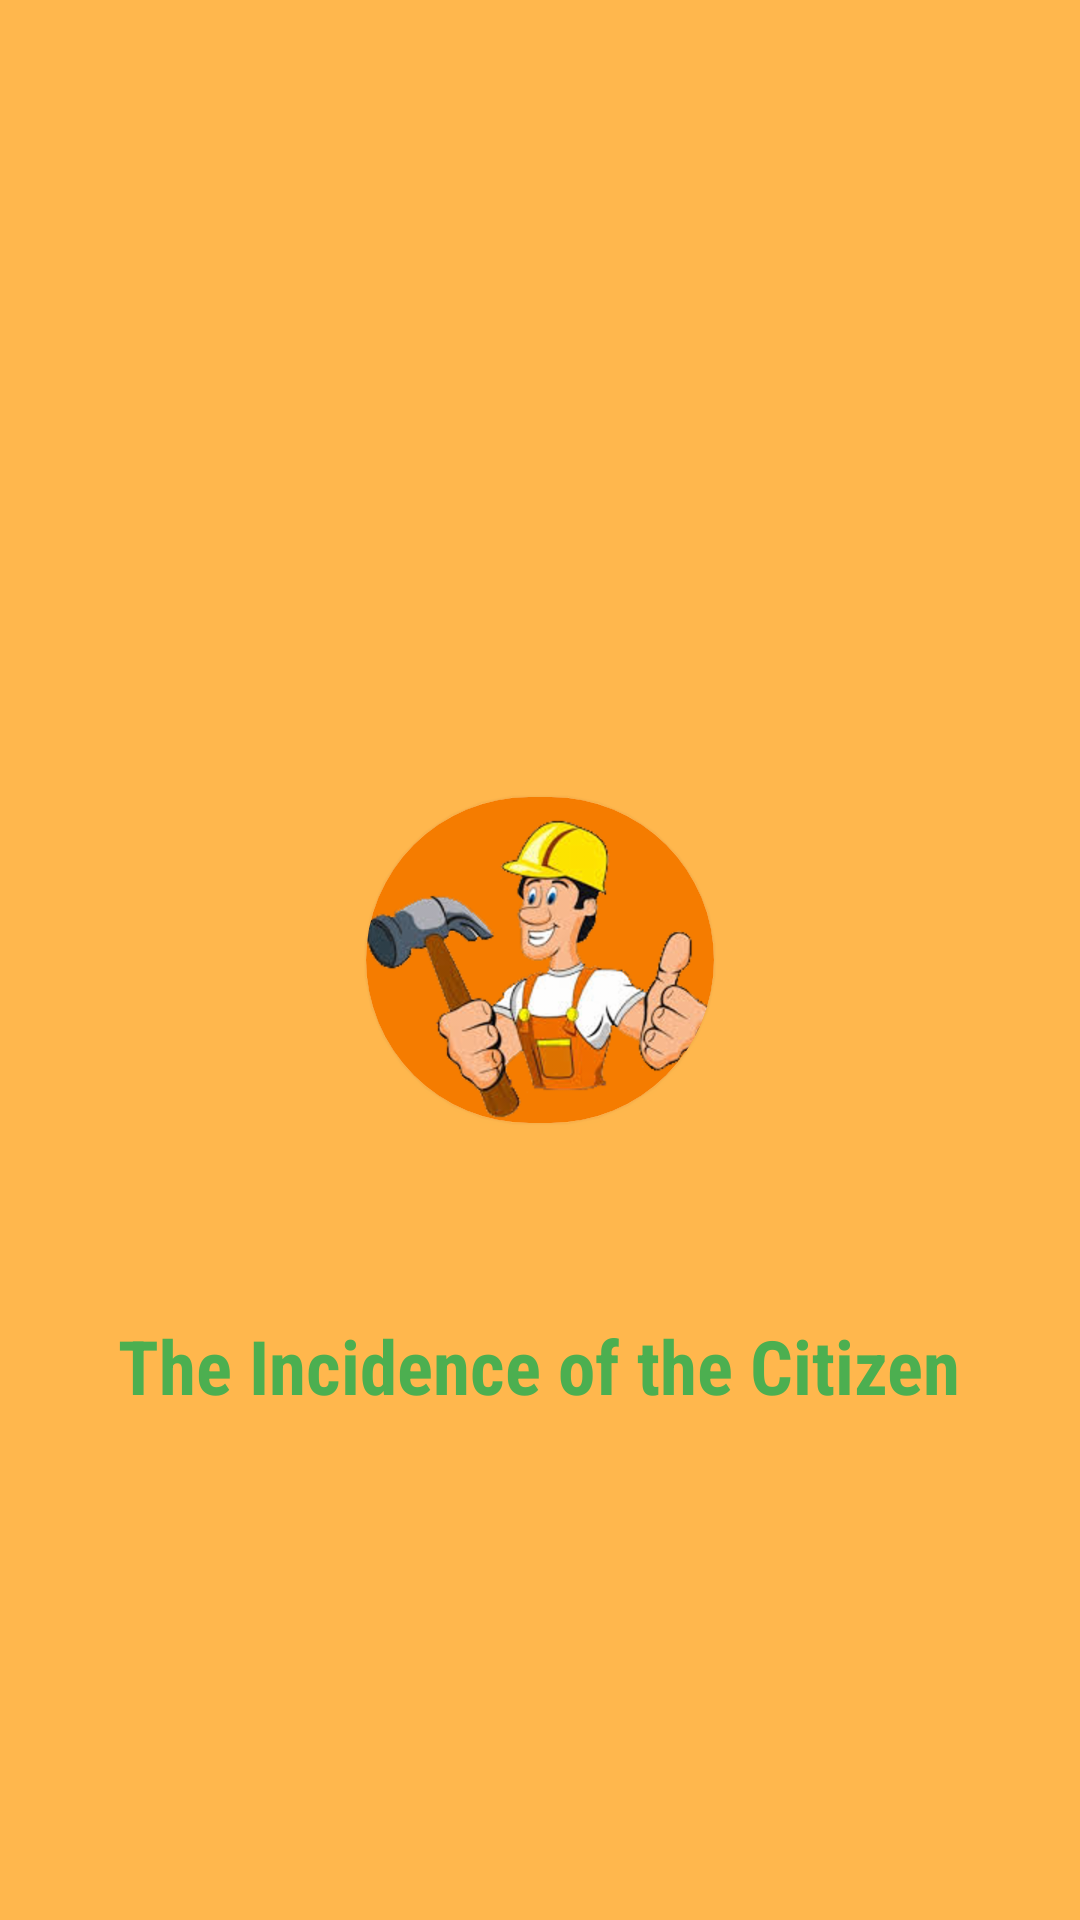

Icons on this 1080x1920 Android screen, each with the point to tap as point (x, y):
obrero: point (540, 960)
